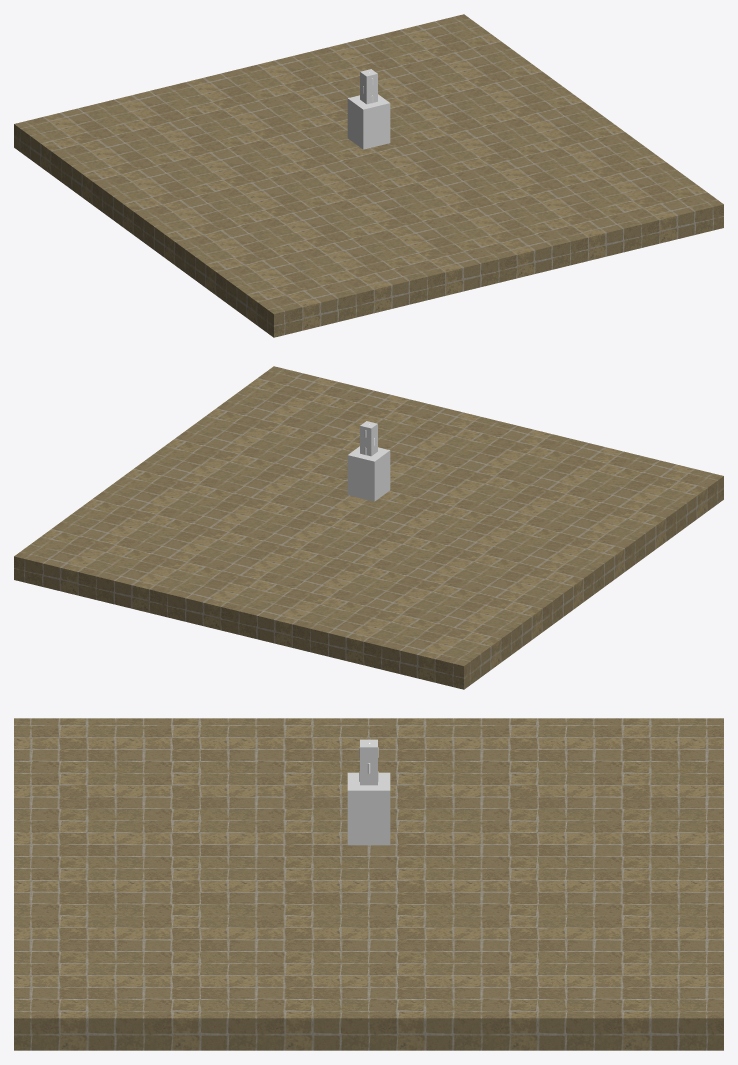
3 views of the same model, one above another, from view 1: azimuth 30°, elevation 25°; view 2: azimuth 150°, elevation 25°; view 3: azimuth 270°, elevation 25° (orthographic). The views are drawn at different scales.
Parts seen in each view (by area): view 1: Box, Box.001, Box.002; view 2: Box, Box.001, Box.002; view 3: Box, Box.001, Box.002.
Part boxes in pixels (bbox=[...]): Box: bbox=[14, 14, 723, 337]; Box.001: bbox=[347, 94, 390, 149]; Box.002: bbox=[360, 69, 377, 104]; Box: bbox=[14, 366, 723, 689]; Box.001: bbox=[347, 446, 390, 501]; Box.002: bbox=[360, 421, 377, 456]; Box: bbox=[14, 718, 723, 1050]; Box.001: bbox=[347, 772, 390, 845]; Box.002: bbox=[360, 739, 377, 785].
Size of the model in its own units: 40 by 9.82 by 40.
Materials: 7 (7 with a texture image).
